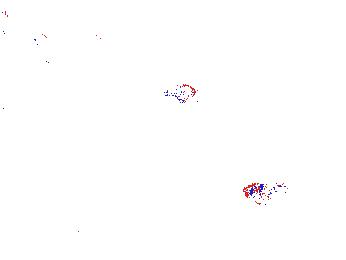X-ray fish: (244, 179, 301, 207)
red belly glassfish: (166, 82, 196, 102)
